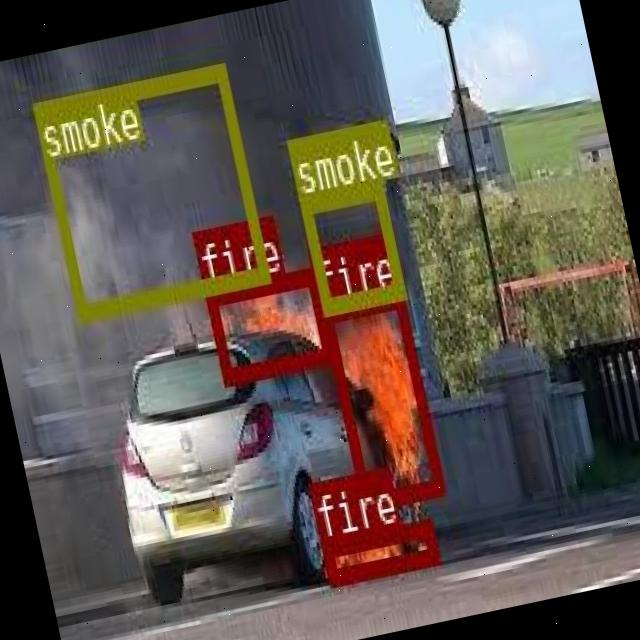fire: (318, 290, 442, 508), (202, 266, 332, 382), (319, 518, 438, 584)
smoke: (30, 64, 266, 320), (298, 180, 404, 312)
